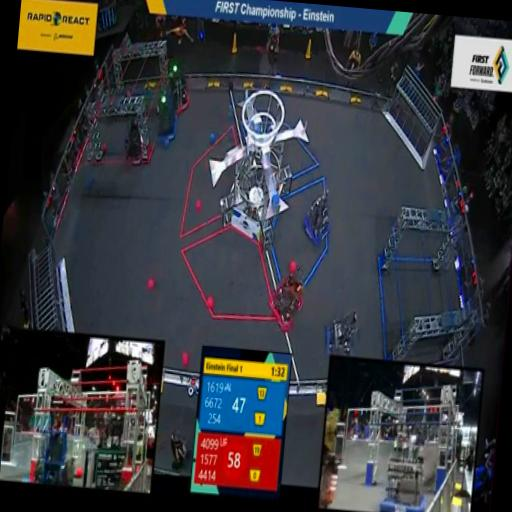robot: (263, 258, 312, 337), (159, 52, 197, 123), (148, 82, 184, 152), (320, 310, 364, 366), (119, 104, 155, 172), (299, 184, 335, 250)
